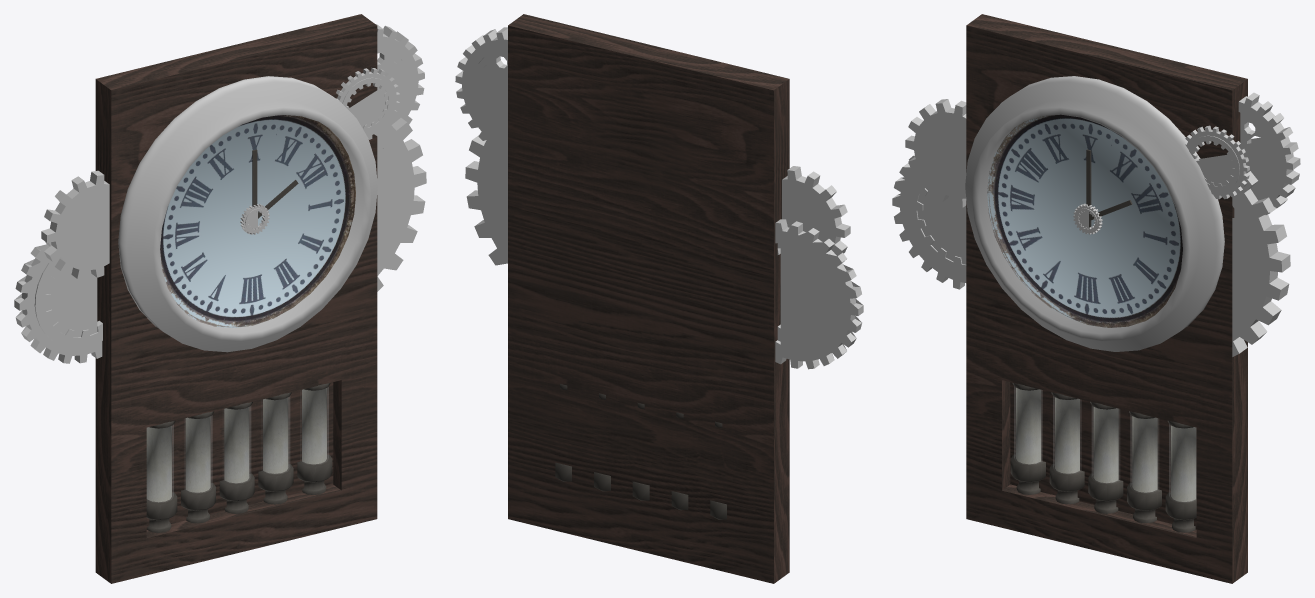
The model's file is horloge.fbx.
The picture shows the model from 3 angles, left to right: view 1: azimuth 30°, elevation 25°; view 2: azimuth 150°, elevation 25°; view 3: azimuth 330°, elevation 25°; orthographic projection.
Visible parts, largest first — view 1: Circle.003; view 2: Circle.003; view 3: Circle.003.
Boxes of the visible parts, <box> form: Circle.003: <box>14,14,426,583</box>; Circle.003: <box>455,14,863,583</box>; Circle.003: <box>892,14,1300,583</box>.
Bounding box in the file's own units: 56.56 × 66.18 × 8.58.
